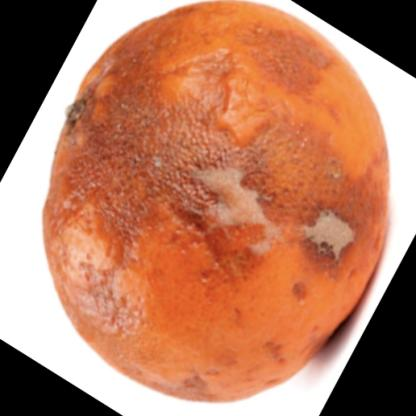rotten: (45, 1, 390, 402)
